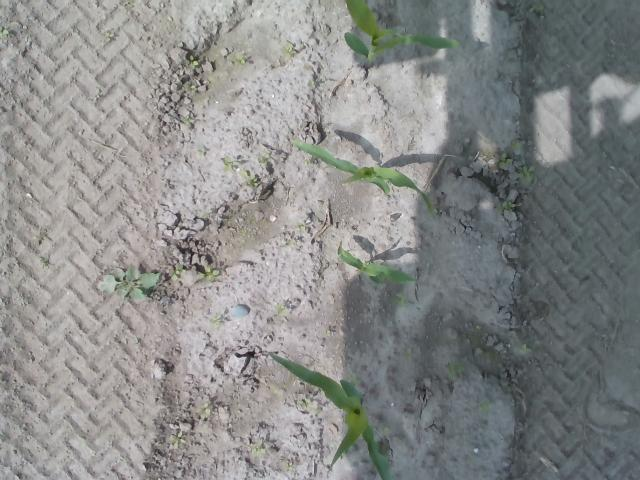Maize: (269, 350, 393, 480), (289, 137, 434, 215), (342, 0, 460, 62), (336, 246, 420, 292)
Weeds: (96, 262, 159, 302), (198, 265, 220, 282), (238, 170, 260, 186), (517, 164, 536, 182), (446, 360, 466, 377), (168, 432, 188, 448), (222, 155, 236, 173), (184, 55, 200, 70), (170, 264, 184, 281), (496, 199, 512, 212), (498, 153, 514, 166), (198, 402, 210, 419), (304, 398, 318, 412), (280, 42, 294, 56), (273, 303, 288, 316), (257, 152, 271, 165), (376, 424, 392, 435), (390, 293, 406, 303), (251, 447, 268, 456), (210, 314, 222, 326), (0, 25, 9, 40), (182, 115, 194, 125), (511, 141, 524, 150), (519, 342, 529, 353), (195, 144, 204, 155), (286, 462, 294, 472), (322, 330, 332, 336)
